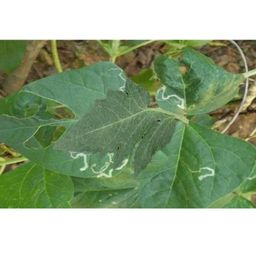liriomyza: (68, 150, 129, 177), (156, 85, 187, 110), (109, 67, 127, 92), (187, 166, 216, 181)
